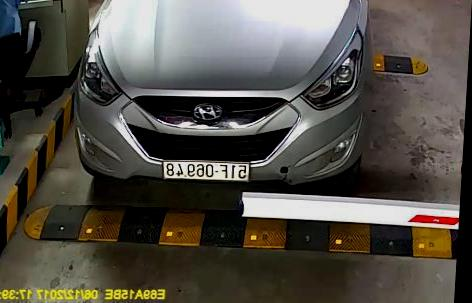License_Plate: (150, 157, 261, 188)
